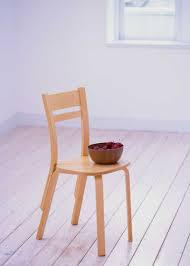chair: (27, 74, 143, 250)
